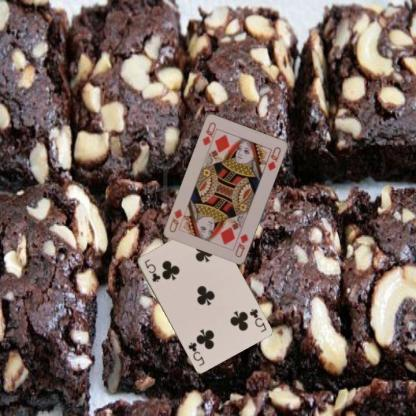5c: (247, 306, 268, 333), (141, 257, 162, 283)
Qd: (200, 120, 218, 150), (233, 231, 250, 259)
